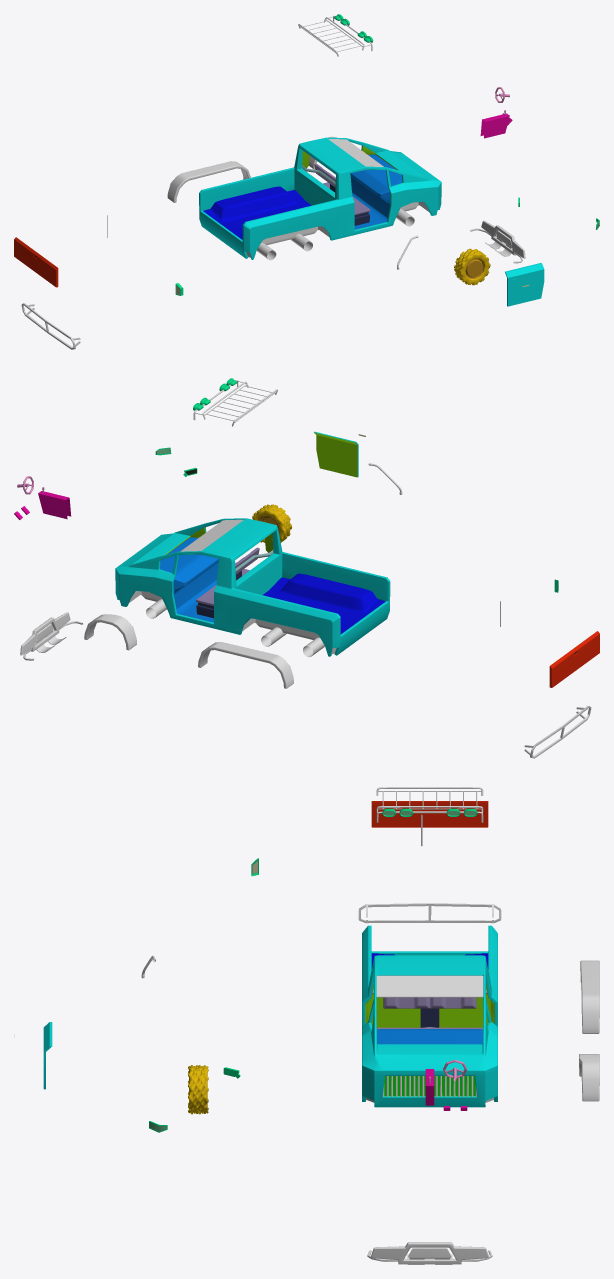
File: civilian_car_truck_high.fbx
3 views of the same model, one above another, from view 1: azimuth 30°, elevation 25°; view 2: azimuth 150°, elevation 25°; view 3: azimuth 270°, elevation 25° (orthographic). The views are drawn at different scales.
Visible parts, largest first — view 1: Hull.002, Floor.002, DoorBack.002, Bottom.002, WheelCover.002, Wheel.002, BackHatch.002, Seats.002, Controls.002, BumperFront.002, WindshieldTop.002, BumperBack.002; view 2: Hull.002, Floor.002, WheelCover.002, Bottom.002, DoorBack.002, BackHatch.002, Controls.002, Seats.002, Wheel.002, BumperFront.002, WindshieldTop.002, BumperBack.002; view 3: Hull.002, BackHatch.002, WindshieldTop.002, WheelCover.002, Floor.002, Seats.002, BumperFront.002, BumperBack.002, Cube, Wheel.002, TopSupport.002, Controls.002.
Boxes of the visible parts, bbox=[...] form: Hull.002: bbox=[199, 137, 441, 259]; Floor.002: bbox=[203, 154, 402, 239]; DoorBack.002: bbox=[505, 263, 544, 306]; Bottom.002: bbox=[246, 202, 429, 260]; WheelCover.002: bbox=[167, 136, 337, 202]; Wheel.002: bbox=[454, 248, 490, 285]; BackHatch.002: bbox=[14, 237, 58, 287]; Seats.002: bbox=[302, 163, 370, 225]; Controls.002: bbox=[480, 87, 512, 138]; BumperFront.002: bbox=[481, 220, 525, 258]; WindshieldTop.002: bbox=[328, 139, 383, 166]; BumperBack.002: bbox=[21, 303, 80, 349]; Hull.002: bbox=[115, 518, 390, 656]; Floor.002: bbox=[160, 537, 385, 633]; WheelCover.002: bbox=[84, 614, 293, 688]; Bottom.002: bbox=[129, 591, 336, 657]; DoorBack.002: bbox=[314, 431, 365, 477]; BackHatch.002: bbox=[549, 631, 599, 687]; Controls.002: bbox=[14, 476, 71, 519]; Seats.002: bbox=[196, 547, 273, 618]; Wheel.002: bbox=[252, 504, 292, 542]; BumperFront.002: bbox=[20, 612, 70, 655]; WindshieldTop.002: bbox=[180, 519, 243, 551]; BumperBack.002: bbox=[524, 706, 591, 758]; Hull.002: bbox=[362, 925, 497, 1107]; BackHatch.002: bbox=[371, 801, 488, 827]; WindshieldTop.002: bbox=[376, 975, 483, 997]; WheelCover.002: bbox=[579, 960, 599, 1101]; Floor.002: bbox=[371, 953, 488, 1044]; Seats.002: bbox=[372, 990, 487, 1029]; BumperFront.002: bbox=[370, 1242, 488, 1264]; BumperBack.002: bbox=[358, 903, 501, 923]; Cube: bbox=[383, 1076, 476, 1096]; Wheel.002: bbox=[188, 1065, 208, 1114]; TopSupport.002: bbox=[376, 787, 483, 812]; Controls.002: bbox=[425, 1059, 467, 1110].
Size of the model in its own units: 1038 by 533 by 791.
